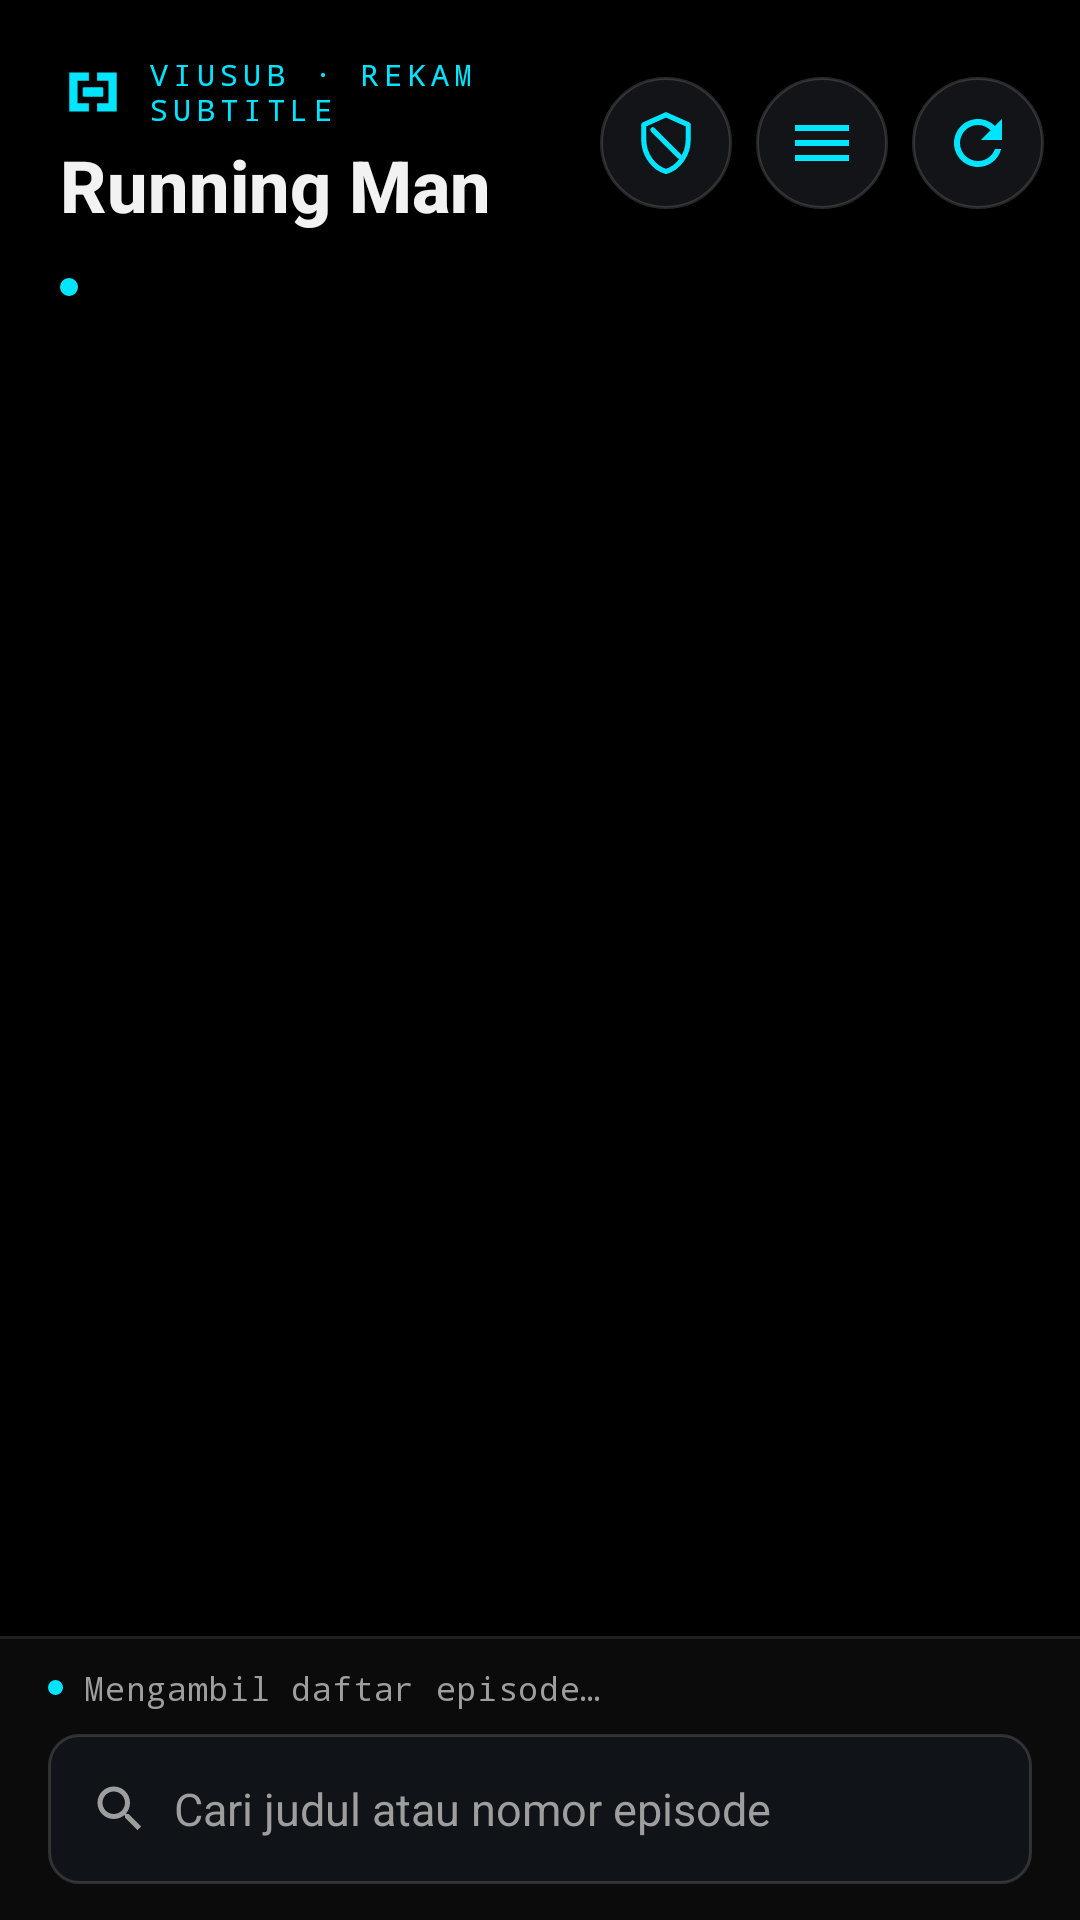

Point at icon controls on the screen. Image size 1080*1920, points as (x=x, y=y).
Info DNS & iklan: (x=666, y=143)
Menu: (x=822, y=143)
Muat Ulang: (x=978, y=143)
